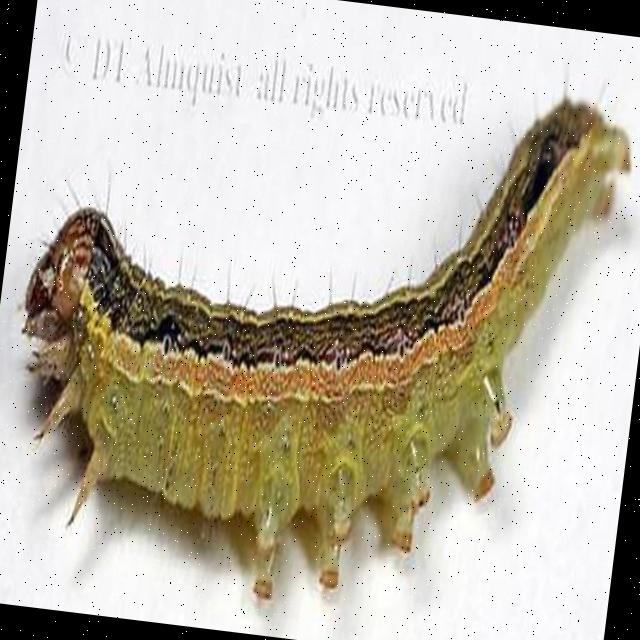worm: (1, 32, 640, 640)
